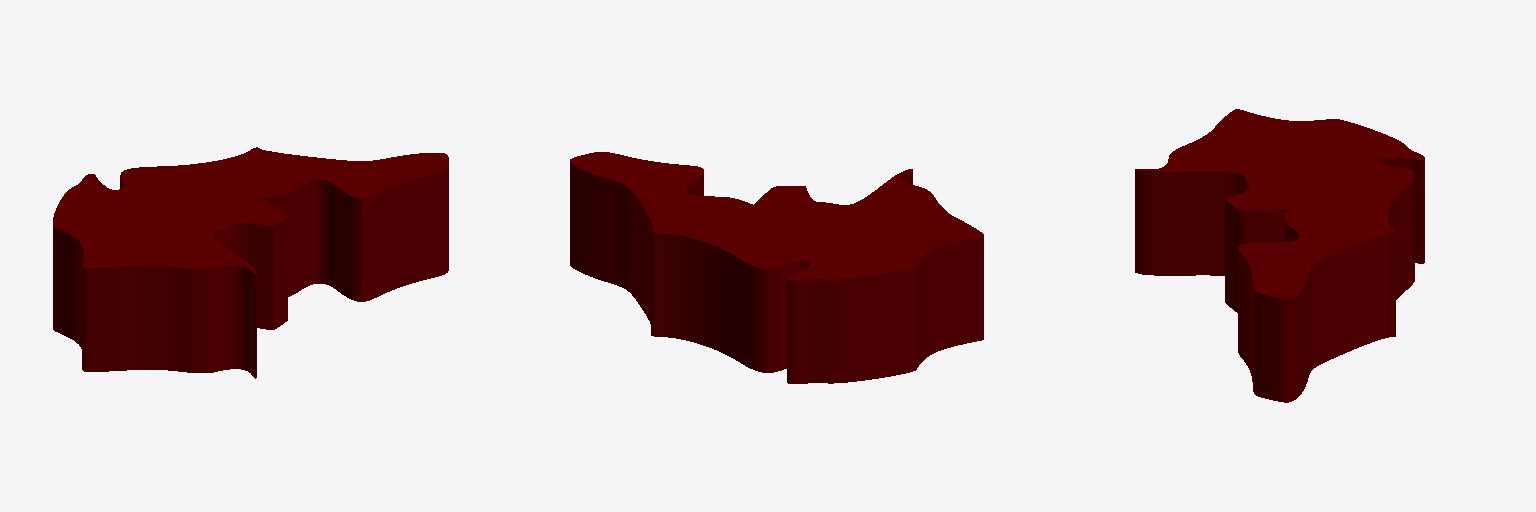
The model's file is South_America_04.obj.
The picture shows the model from 3 angles: view 1: azimuth 30°, elevation 25°; view 2: azimuth 150°, elevation 25°; view 3: azimuth 270°, elevation 25°; orthographic projection.
Parts seen in each view (by area): view 1: South_America_04_path4212; view 2: South_America_04_path4212; view 3: South_America_04_path4212.
Boxes of the visible parts, <box> form: South_America_04_path4212: <box>53,147,448,378</box>; South_America_04_path4212: <box>570,152,983,383</box>; South_America_04_path4212: <box>1135,109,1424,402</box>.
Bounding box in the file's own units: 0.3915 × 0.1 × 0.2531.